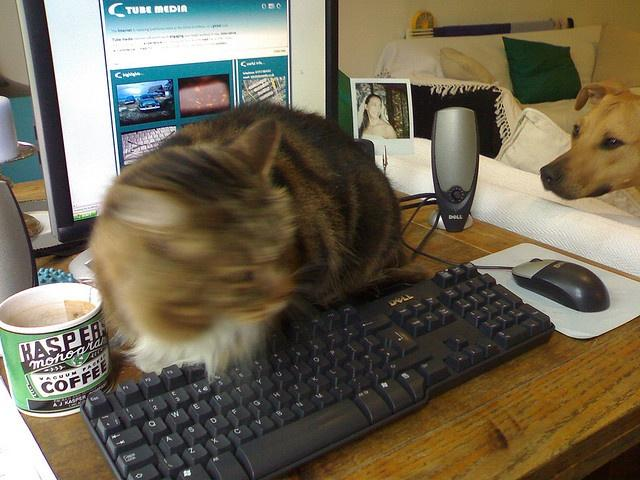AIO PC-Monitor-TV: (12, 0, 340, 249)
